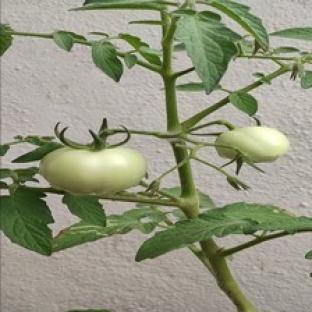Tomato: (39, 147, 146, 194), (215, 126, 289, 162)
